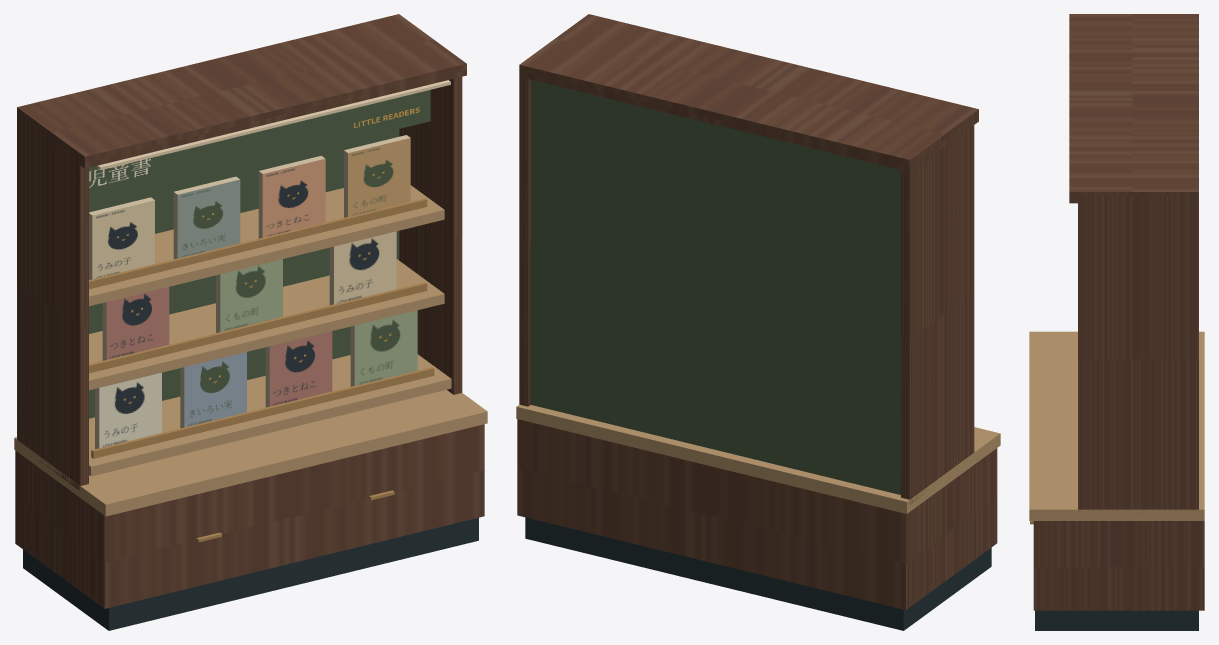
The model's file is orienne_junior_1.glb.
3 renders of one model, left to right at view 1: azimuth 30°, elevation 25°; view 2: azimuth 150°, elevation 25°; view 3: azimuth 270°, elevation 25°, orthographic. The views are drawn at different scales.
Size of the model in its own units: 1.95 by 2.26 by 0.81.
1 material, 1 textured.
